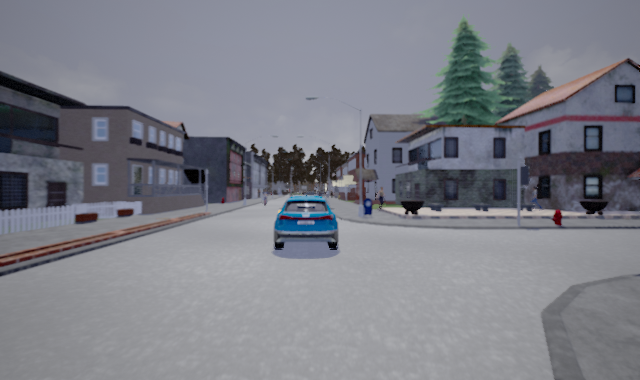pedestrian: (374, 185, 387, 209), (529, 185, 541, 210)
vehicle: (271, 196, 338, 252)
